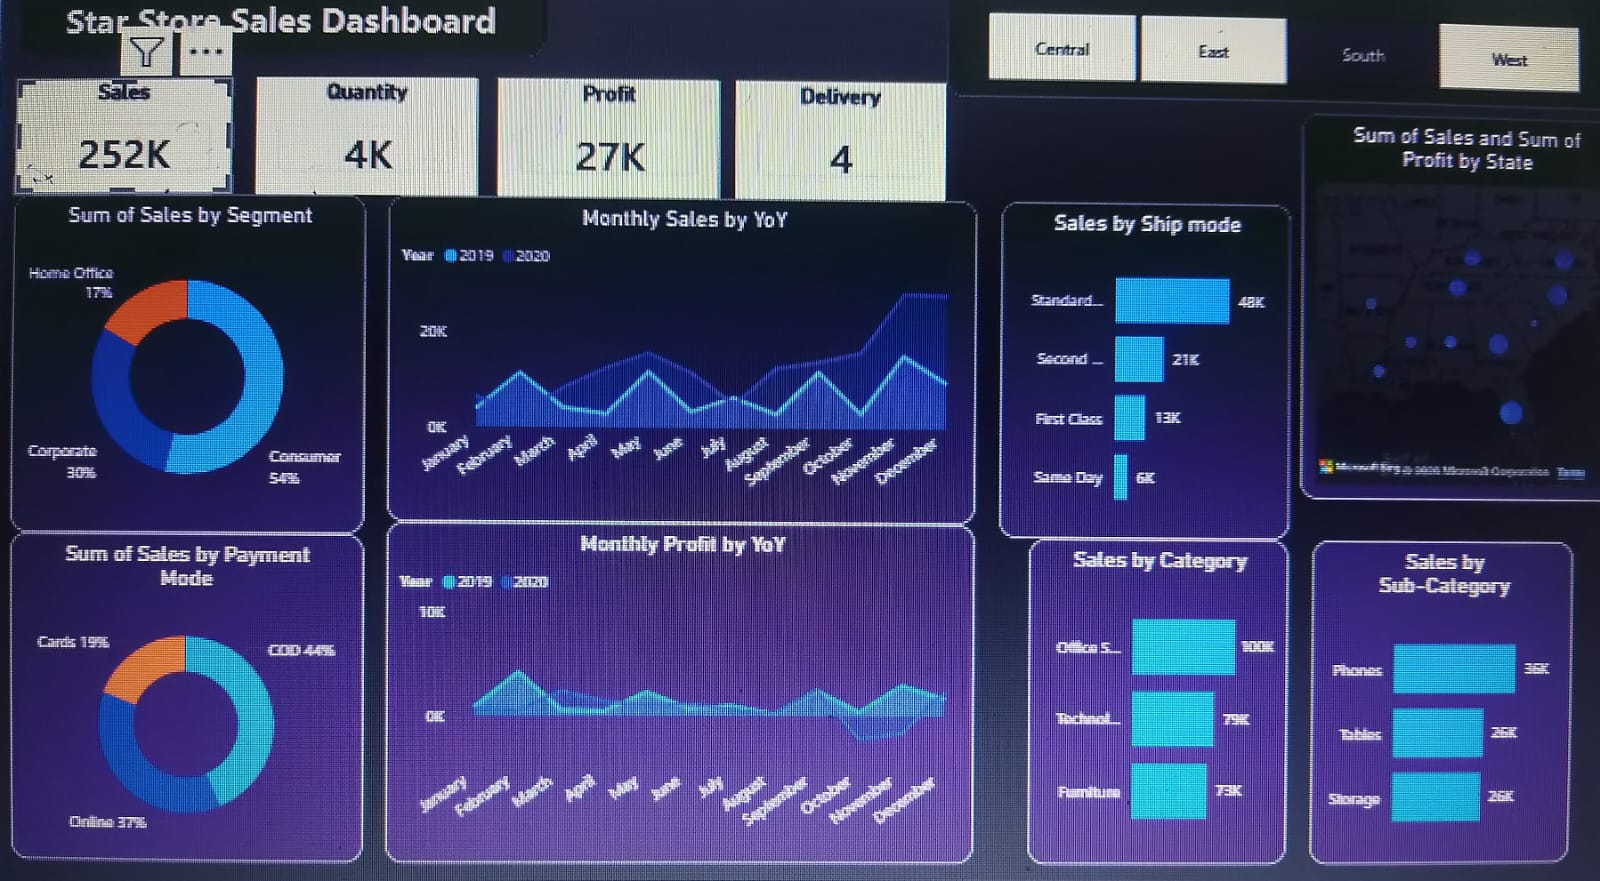

This screenshot's page, from the dashboard's own definition file:
{"tool":"powerbi","page":{"name":"Page 1","canvas":[1280,720],"ordinal":0},"visuals":[{"type":"clusteredBarChart","title":"Sales by Category","fields":{"Category":["SuperStore_Sales_Dataset (1).Category"],"Y":["Sum(SuperStore_Sales_Dataset (1).Sales)"]},"box":[802.9,436.7,203.3,253.6],"z":0},{"type":"clusteredBarChart","title":"Sales by Ship mode","fields":{"Category":["SuperStore_Sales_Dataset (1).Ship Mode"],"Y":["Sum(SuperStore_Sales_Dataset (1).Sales)"]},"box":[779.4,174.7,226.8,262],"z":1000},{"type":"clusteredBarChart","title":"Sales by Sub-Category","fields":{"Category":["SuperStore_Sales_Dataset (1).Sub-Category"],"Y":["Sum(SuperStore_Sales_Dataset (1).Sales)"]},"box":[1024.7,436.7,210,253.6],"z":2000},{"type":"areaChart","title":"Monthly Sales by YoY","fields":{"Category":["SuperStore_Sales_Dataset (1).Order Date.Variation.Date Hierarchy.Month","SuperStore_Sales_Dataset (1).Order Date.Variation.Date Hierarchy.Day"],"Y":["Sum(SuperStore_Sales_Dataset (1).Sales)"],"Series":["SuperStore_Sales_Dataset (1).Order Date.Variation.Date Hierarchy.Year"]},"box":[305.7,174.7,455.2,252],"z":3000},{"type":"areaChart","title":"Monthly Profit by YoY","fields":{"Category":["SuperStore_Sales_Dataset (1).Order Date.Variation.Date Hierarchy.Month","SuperStore_Sales_Dataset (1).Order Date.Variation.Date Hierarchy.Day"],"Series":["SuperStore_Sales_Dataset (1).Order Date.Variation.Date Hierarchy.Year"],"Y":["Sum(SuperStore_Sales_Dataset (1).Profit)"]},"box":[305.7,426.7,455.2,263.7],"z":4000},{"type":"map","fields":{"Category":["SuperStore_Sales_Dataset (1).State"],"Size":["Sum(SuperStore_Sales_Dataset (1).Sales)"]},"box":[1014.6,102.5,265.4,302.4],"z":5000},{"type":"donutChart","fields":{"Category":["SuperStore_Sales_Dataset (1).Segment"],"Y":["Sum(SuperStore_Sales_Dataset (1).Sales)"]},"box":[13.4,174.7,275.5,262],"z":6000},{"type":"donutChart","fields":{"Category":["SuperStore_Sales_Dataset (1).Payment Mode"],"Y":["Sum(SuperStore_Sales_Dataset (1).Sales)"]},"box":[13.4,436.7,275.5,253.6],"z":7000},{"type":"slicer","fields":{"Values":["SuperStore_Sales_Dataset (1).Region"]},"box":[735.7,0,535.9,94.1],"z":8000},{"type":"textbox","box":[13.4,8.4,411.5,58.8],"z":9000},{"type":"cardVisual","title":"Sales","fields":{"Data":["Sum(SuperStore_Sales_Dataset (1).Sales)"]},"box":[13.4,84,171.3,90.7],"z":9001},{"type":"cardVisual","title":"Quantity","fields":{"Data":["Sum(SuperStore_Sales_Dataset (1).Quantity)"]},"box":[203.3,84,171.3,90.7],"z":9002},{"type":"cardVisual","title":"Profit","fields":{"Data":["Sum(SuperStore_Sales_Dataset (1).Profit)"]},"box":[389.7,84,171.3,90.7],"z":9003},{"type":"cardVisual","title":"Delivery","fields":{"Data":["Avg(SuperStore_Sales_Dataset (1).avgDelivery)"]},"box":[572.8,84,162.9,90.7],"z":9004}]}

Visuals, with their boxes in screenshot pixels (x1, y1, x2, y2), scaled from the page's 1280x720 canvas onto the 1600x881 screenshot:
"Sales by Category" clusteredBarChart: {"left": 1004, "top": 534, "right": 1258, "bottom": 845}
"Sales by Ship mode" clusteredBarChart: {"left": 974, "top": 214, "right": 1258, "bottom": 534}
"Sales by Sub-Category" clusteredBarChart: {"left": 1281, "top": 534, "right": 1543, "bottom": 845}
"Monthly Sales by YoY" areaChart: {"left": 382, "top": 214, "right": 951, "bottom": 522}
"Monthly Profit by YoY" areaChart: {"left": 382, "top": 522, "right": 951, "bottom": 845}
map - SuperStore_Sales_Dataset (1).State x Sum(SuperStore_Sales_Dataset (1).Sales): {"left": 1268, "top": 125, "right": 1599, "bottom": 495}
donutChart - SuperStore_Sales_Dataset (1).Segment x Sum(SuperStore_Sales_Dataset (1).Sales): {"left": 17, "top": 214, "right": 361, "bottom": 534}
donutChart - SuperStore_Sales_Dataset (1).Payment Mode x Sum(SuperStore_Sales_Dataset (1).Sales): {"left": 17, "top": 534, "right": 361, "bottom": 845}
slicer - SuperStore_Sales_Dataset (1).Region: {"left": 920, "top": 0, "right": 1590, "bottom": 115}
textbox: {"left": 17, "top": 10, "right": 531, "bottom": 82}
"Sales" cardVisual: {"left": 17, "top": 103, "right": 231, "bottom": 214}
"Quantity" cardVisual: {"left": 254, "top": 103, "right": 468, "bottom": 214}
"Profit" cardVisual: {"left": 487, "top": 103, "right": 701, "bottom": 214}
"Delivery" cardVisual: {"left": 716, "top": 103, "right": 920, "bottom": 214}
